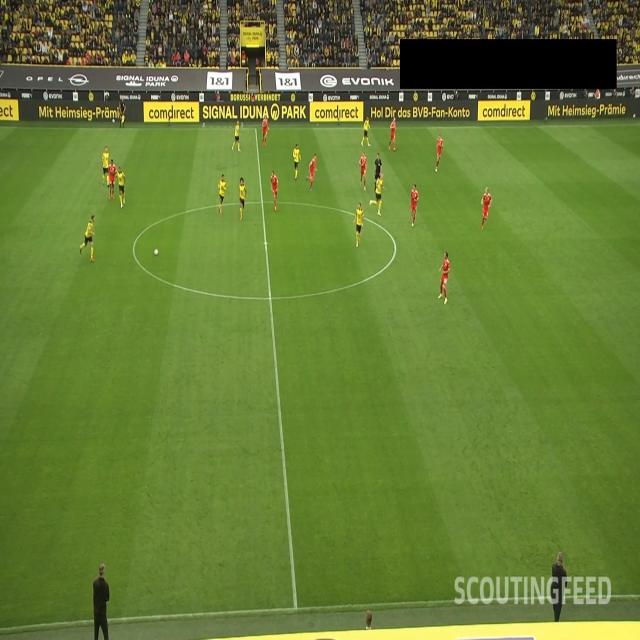ball: (153, 247, 159, 257)
